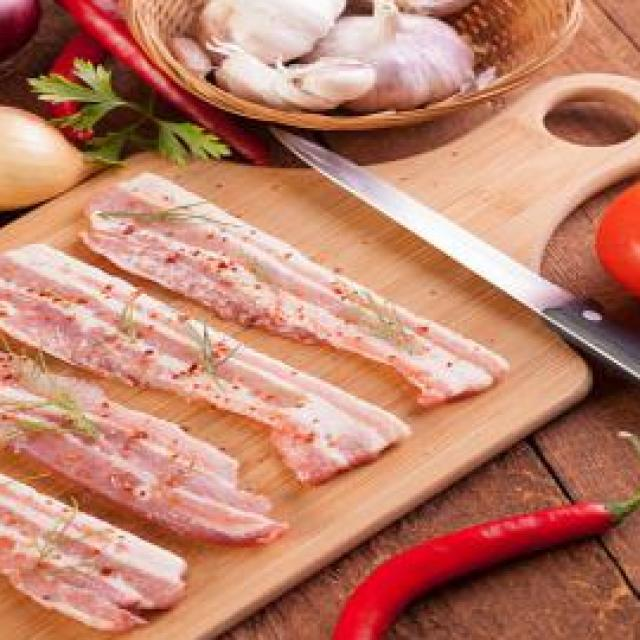knife: (253, 114, 640, 389), (253, 114, 254, 116)
